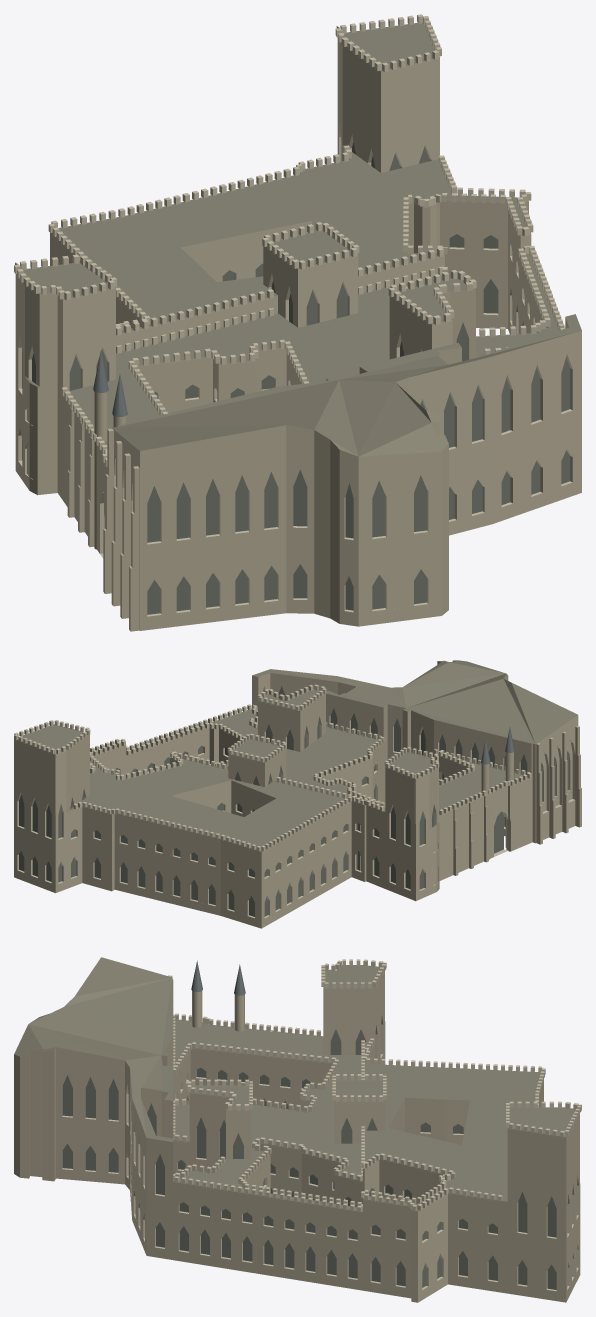
Rendered from palais-des-papes-avignon-near.glb.
The picture shows the model from 3 angles, top to bottom: view 1: azimuth 30°, elevation 25°; view 2: azimuth 150°, elevation 25°; view 3: azimuth 270°, elevation 25°; orthographic projection. The views are drawn at different scales.
Visible parts, largest first — view 1: palais-des-papes-avignon-0-stone, palais-des-papes-avignon-0-roof, palais-des-papes-avignon-0-edge, palais-des-papes-avignon-0-recess, palais-des-papes-avignon-0-slate; view 2: palais-des-papes-avignon-0-stone, palais-des-papes-avignon-0-roof, palais-des-papes-avignon-0-edge, palais-des-papes-avignon-0-recess; view 3: palais-des-papes-avignon-0-stone, palais-des-papes-avignon-0-roof, palais-des-papes-avignon-0-edge, palais-des-papes-avignon-0-recess.
Part boxes in pixels (x1,y1,x2,y2): palais-des-papes-avignon-0-stone: [15, 38, 581, 631]; palais-des-papes-avignon-0-roof: [23, 22, 581, 456]; palais-des-papes-avignon-0-edge: [14, 14, 572, 616]; palais-des-papes-avignon-0-recess: [22, 142, 570, 614]; palais-des-papes-avignon-0-slate: [93, 350, 127, 416]; palais-des-papes-avignon-0-stone: [14, 660, 581, 928]; palais-des-papes-avignon-0-roof: [18, 660, 577, 851]; palais-des-papes-avignon-0-edge: [14, 684, 575, 918]; palais-des-papes-avignon-0-recess: [19, 686, 569, 916]; palais-des-papes-avignon-0-stone: [14, 970, 580, 1302]; palais-des-papes-avignon-0-roof: [14, 957, 575, 1211]; palais-des-papes-avignon-0-edge: [62, 959, 581, 1291]; palais-des-papes-avignon-0-recess: [62, 1029, 556, 1289].
Size of the model in its own units: 143 by 52 by 157.
